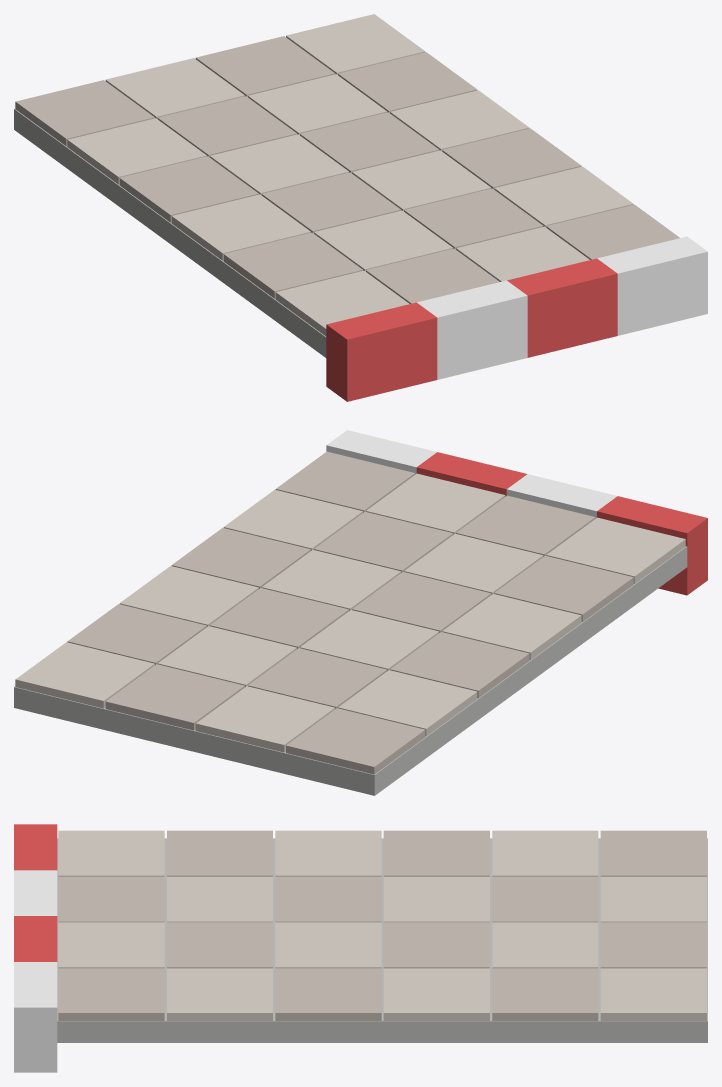
Rendered from SM_Sidewalk.fbx.
3 views of the same model, one above another, from view 1: azimuth 30°, elevation 25°; view 2: azimuth 150°, elevation 25°; view 3: azimuth 270°, elevation 25° (orthographic). The views are drawn at different scales.
Parts seen in each view (by area): view 1: SM_Sidewalk; view 2: SM_Sidewalk; view 3: SM_Sidewalk.
Part boxes in pixels (<box>): SM_Sidewalk: <box>14,14,707,401</box>; SM_Sidewalk: <box>14,430,707,795</box>; SM_Sidewalk: <box>14,824,707,1072</box>.
Bounding box in the file's own units: 2 × 0.33 × 3.2.
